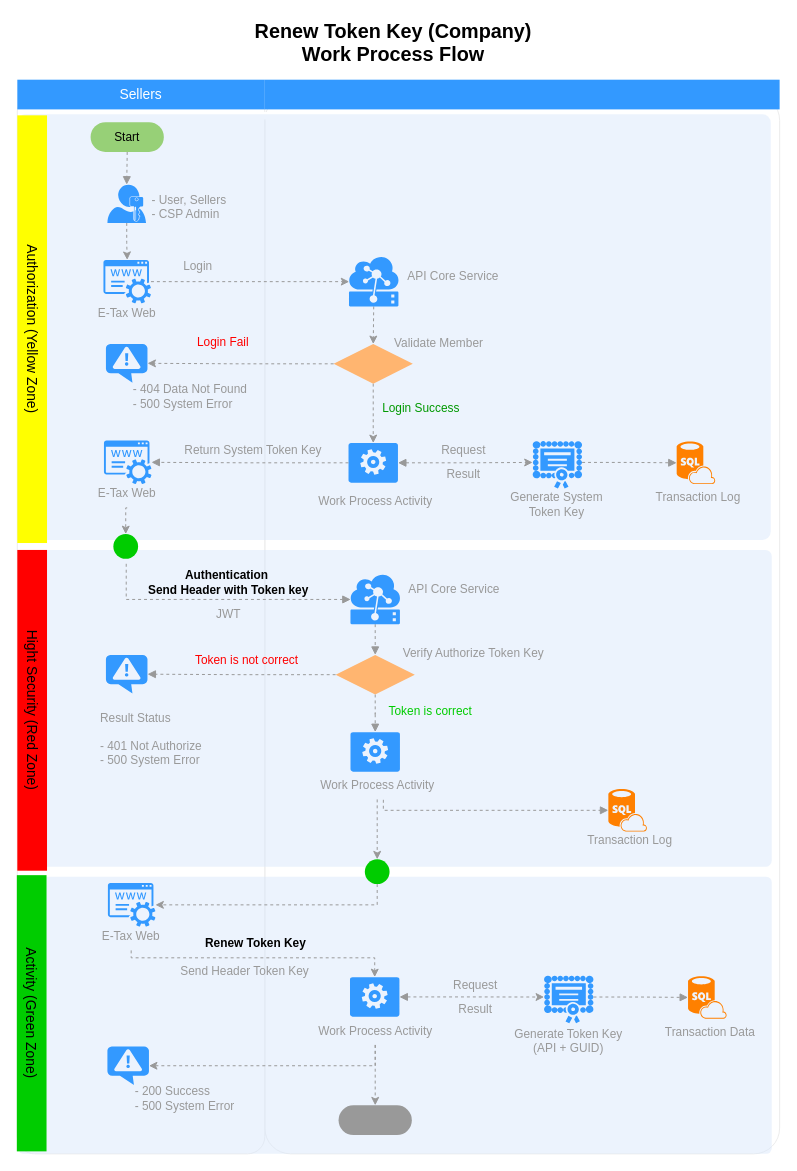
This 797x1171 diagram has some shape labels left out. The box of each missing label's shape, as (x1, y1, x2, y2) in pixels:
API Service Core: (264, 79, 779, 109)
End: (338, 1105, 411, 1135)
